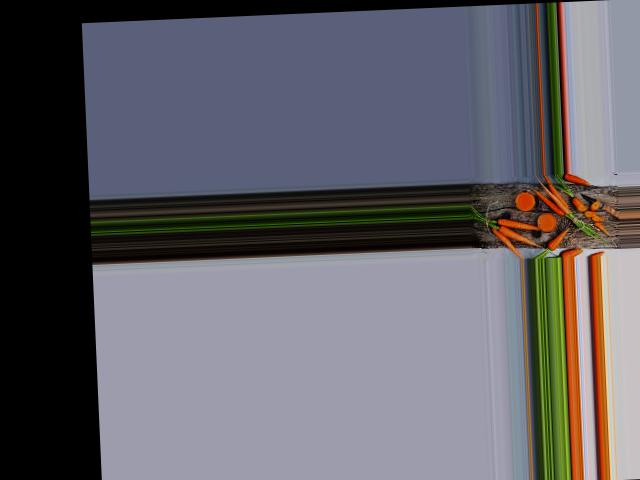carrot: (484, 224, 527, 259)
